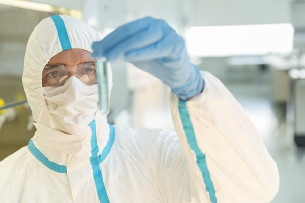Mask: (37, 58, 107, 129)
